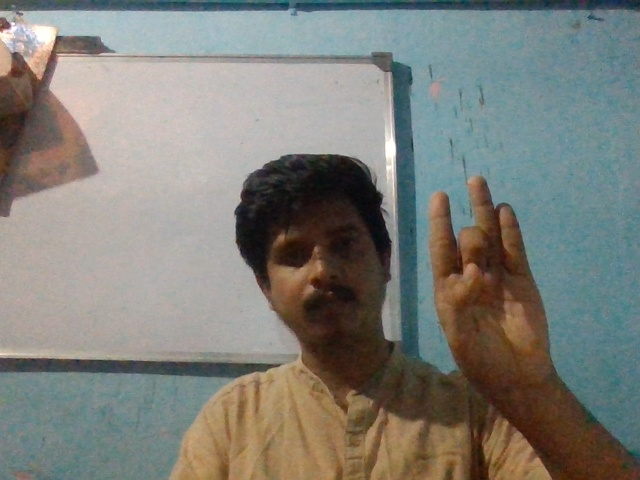Akash: (419, 176, 573, 398)
